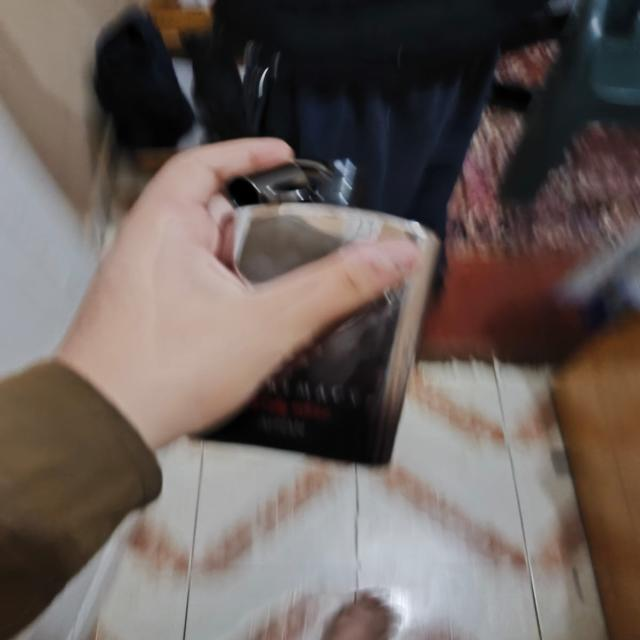Afnan: (189, 156, 441, 467)
